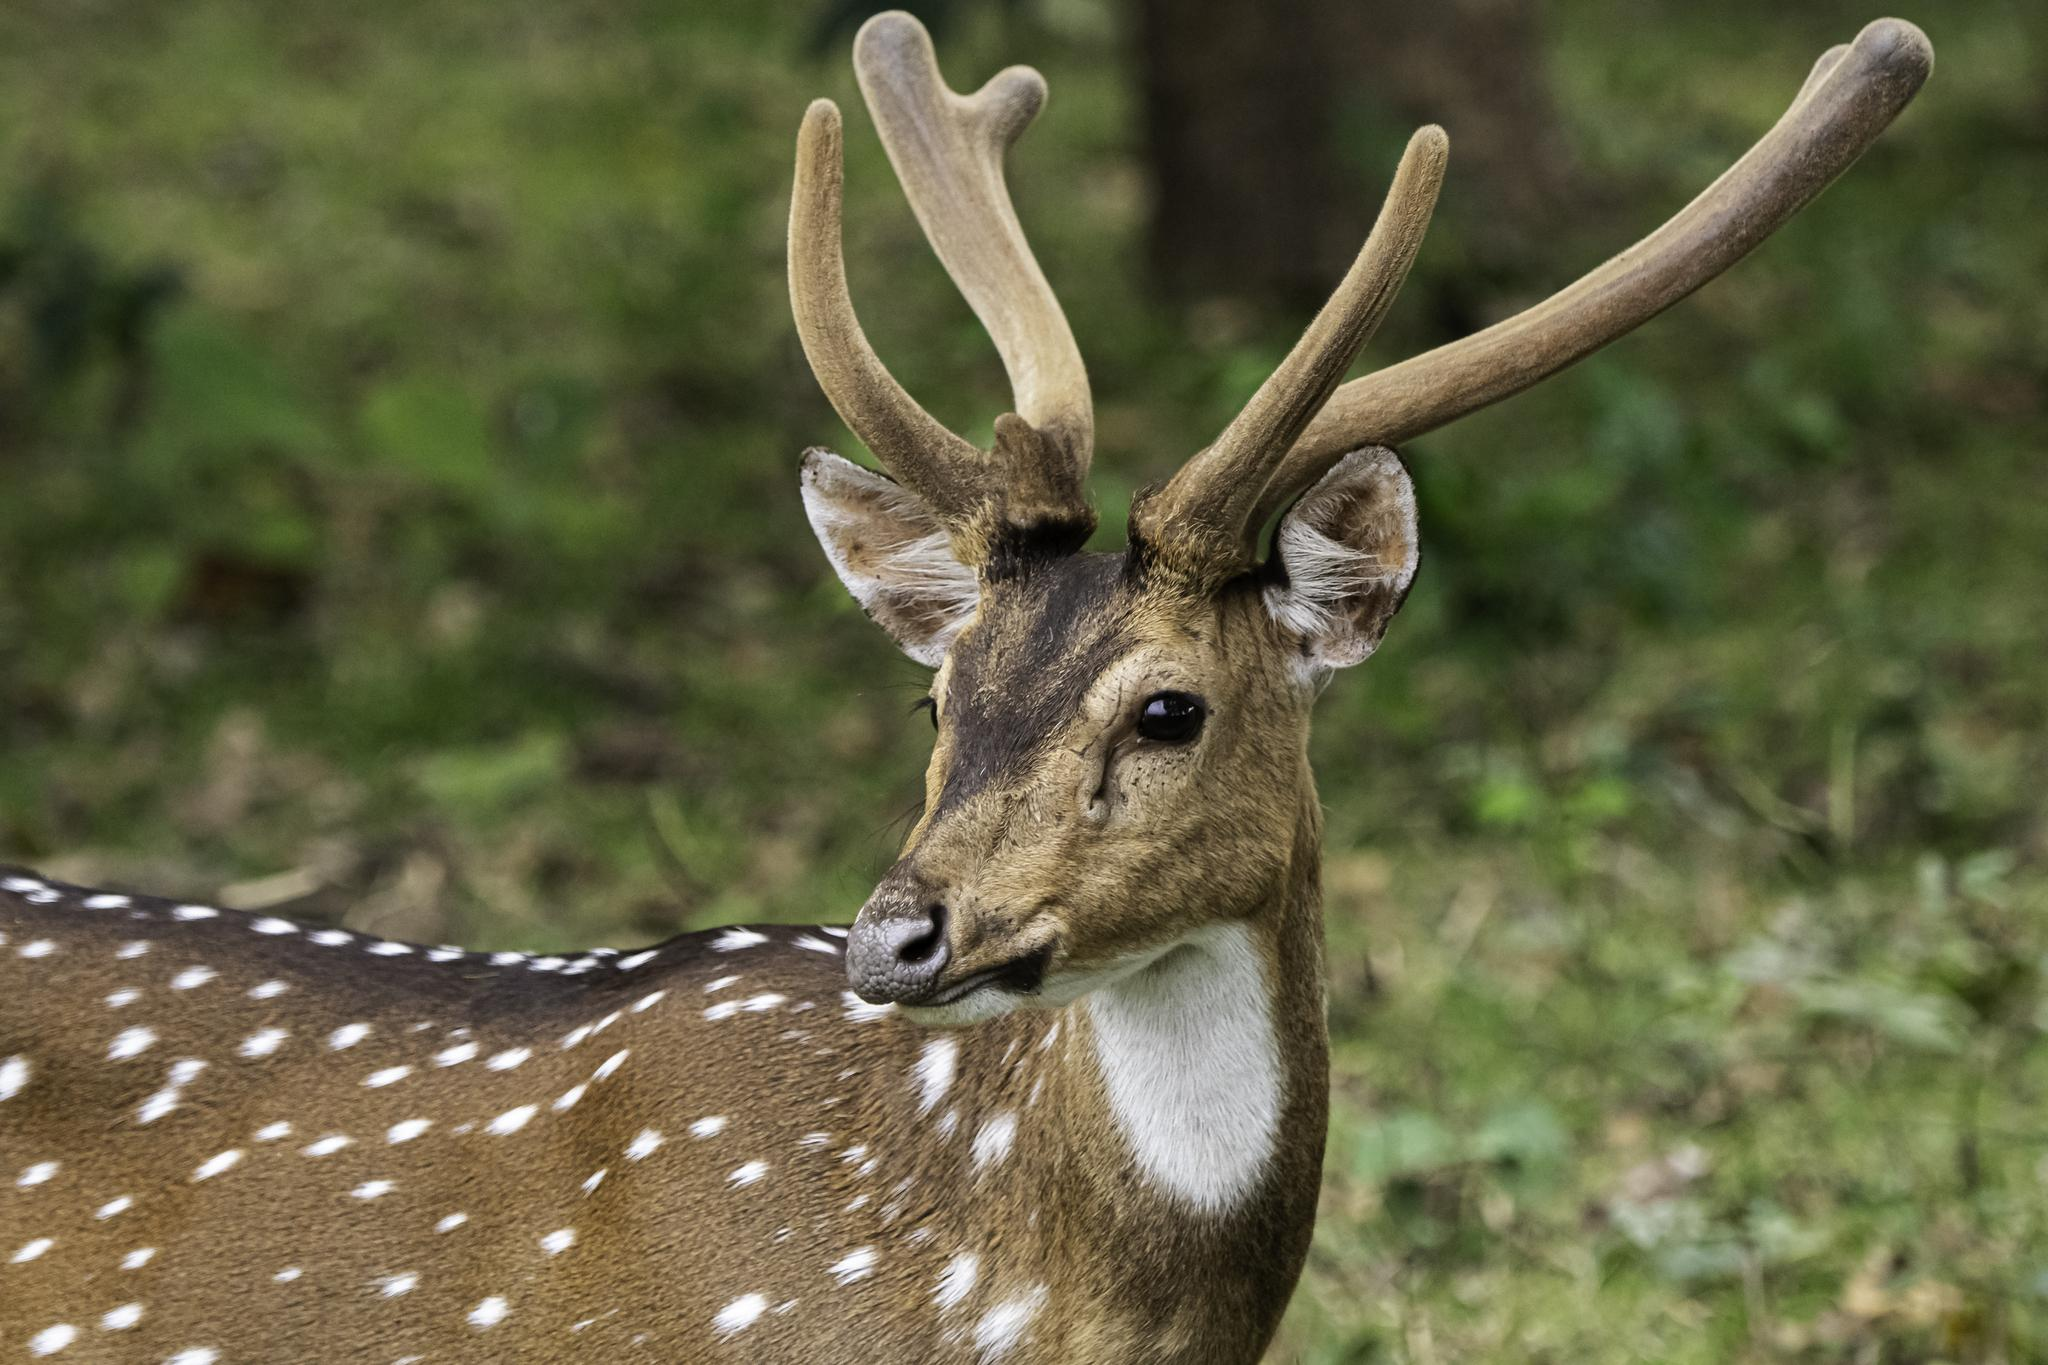Deer: (0, 14, 1932, 1360)
